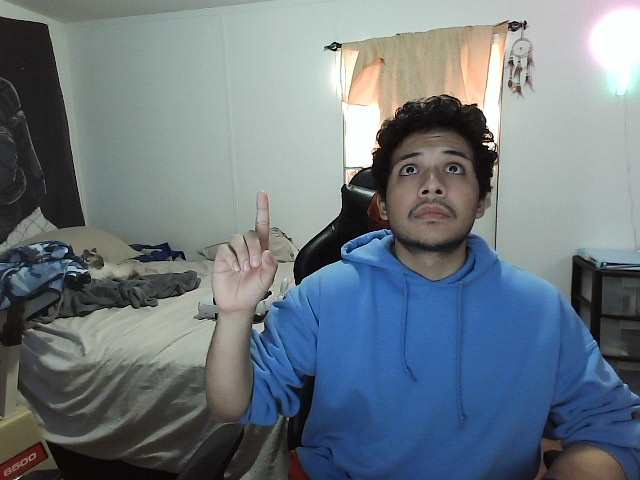D: (209, 185, 282, 308)
